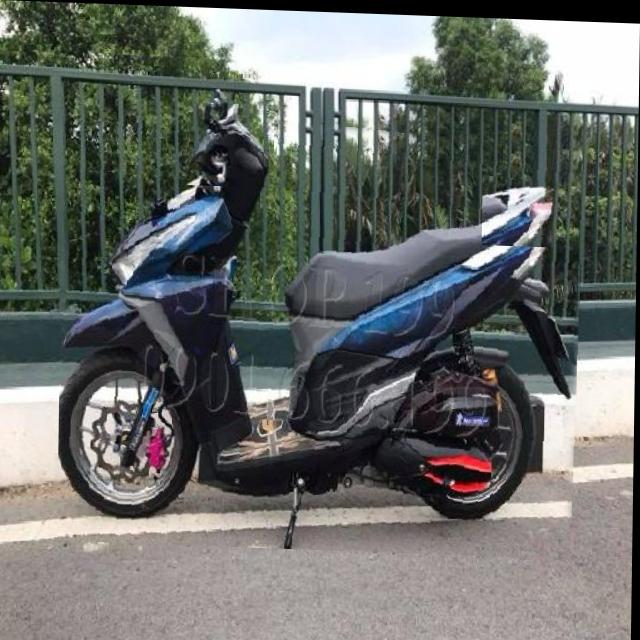All: (59, 97, 586, 555)
Head: (186, 106, 275, 186)
Tail: (482, 171, 558, 243)
